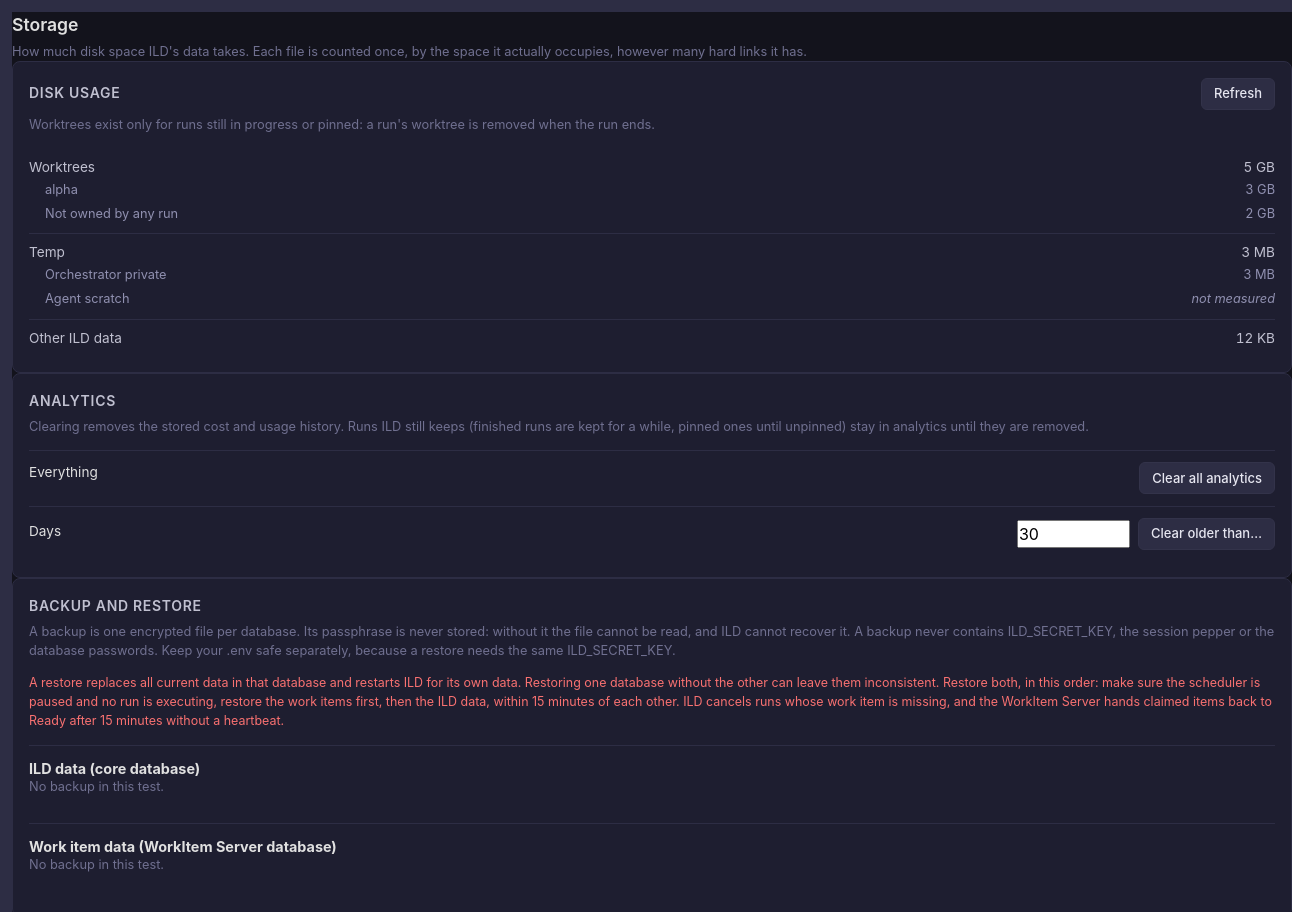
Scenario: StorageSettings overview › Refresh measures again and shows the new figures
Click the button "Refresh". click: [1238, 94]
box: [1201,78,1275,110]
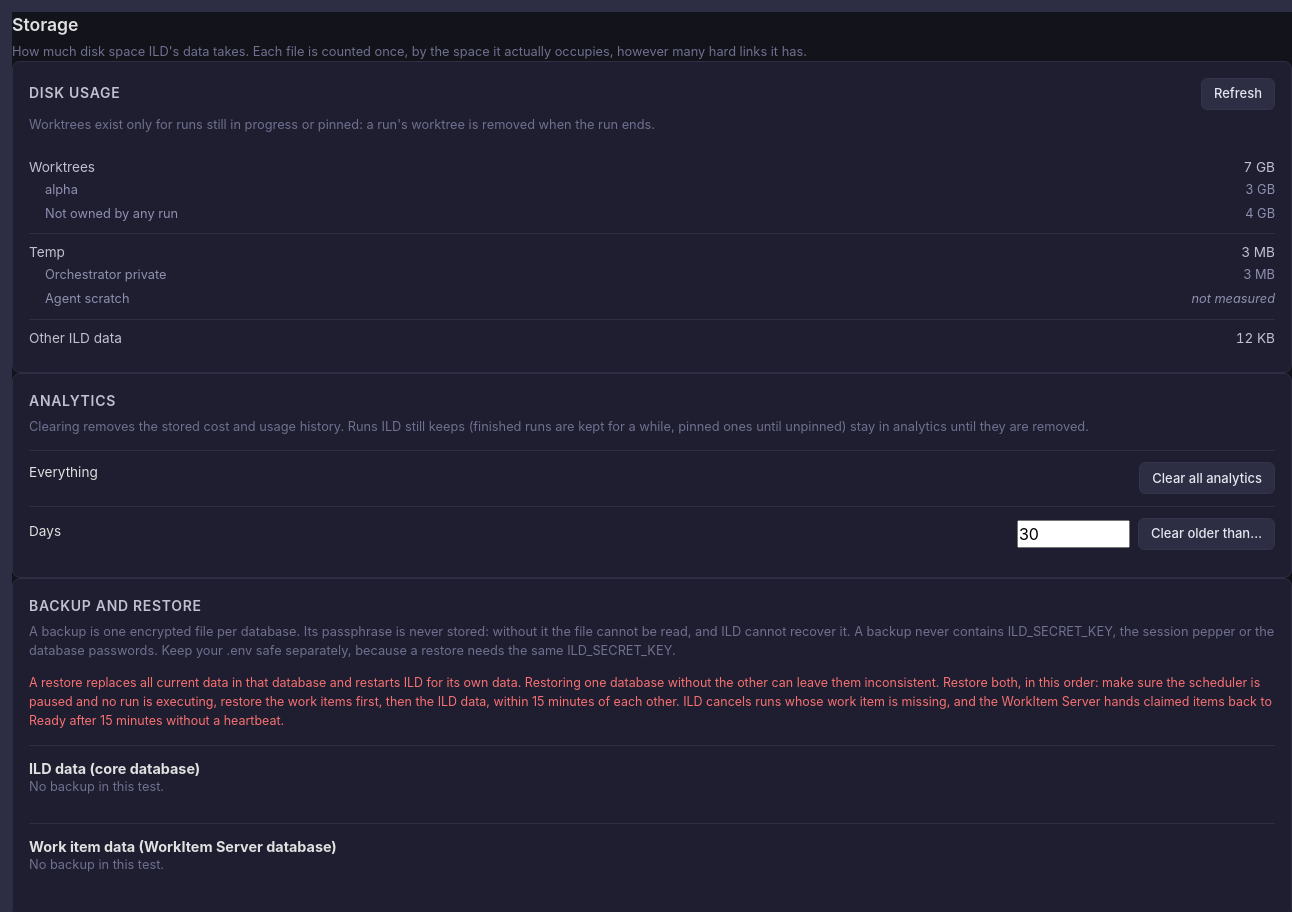
Result: the text "7 GB" is shown at [1244,157,1275,177]
